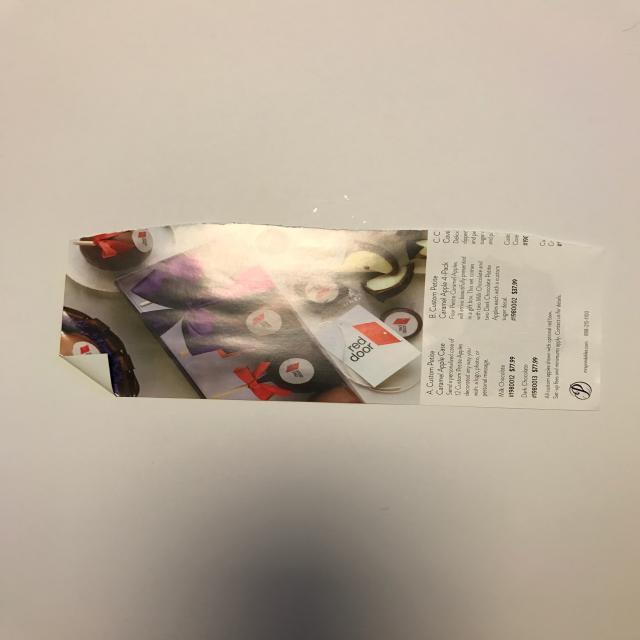paper: (59, 226, 606, 412)
